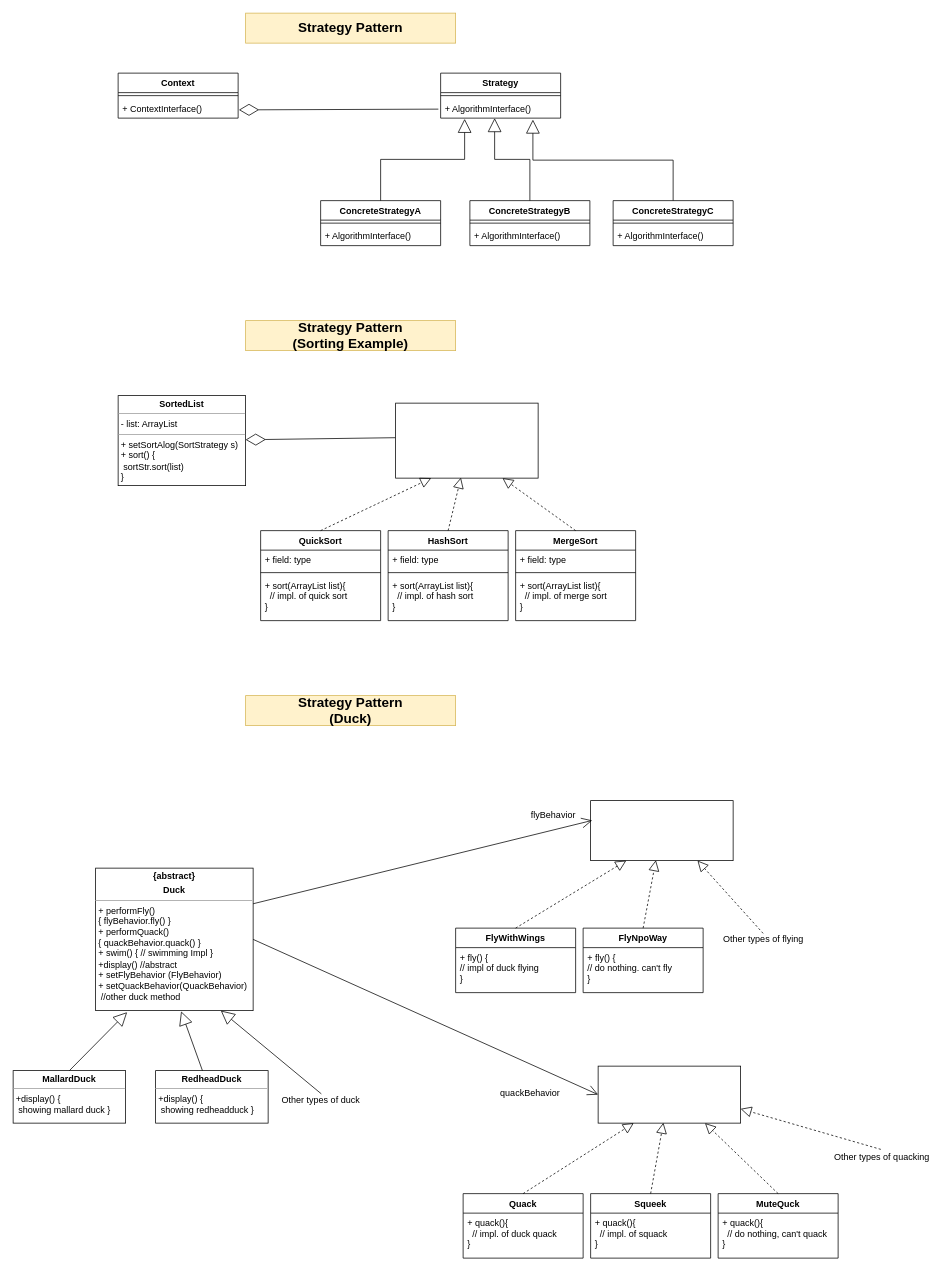
Image size: 947x1274. Some labels were removed from this diagram. Each missing label, with the centre of its shape:
"<<Interface>> FlyBehavior + fly()" belongs at pixel 661 830.
"<<Interface>> QuackBehavior + quack()" belongs at pixel 669 1094.
"<<Interface>> Strategy + sort(ArrayList list)" belongs at pixel 466 440.
